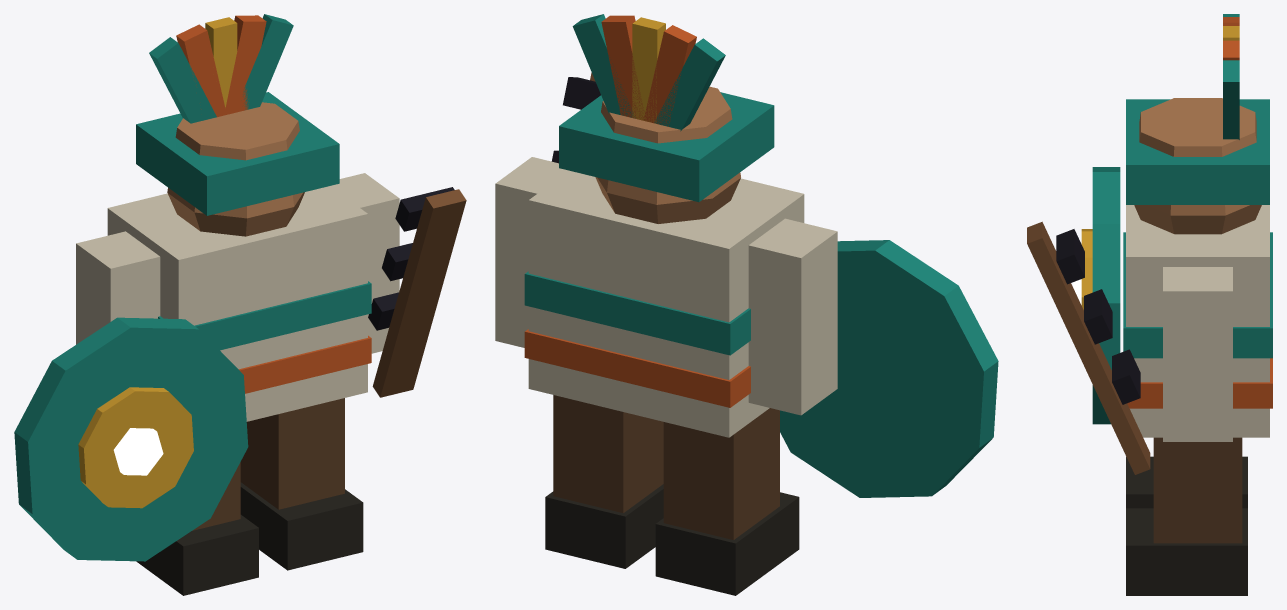
Rendered from unit_soldier.glb.
3 views of the same model, side by side, from view 1: azimuth 30°, elevation 25°; view 2: azimuth 150°, elevation 25°; view 3: azimuth 270°, elevation 25° (orthographic). The views are drawn at different scales.
Visible parts, largest first — view 1: body, arm_l, leg_r, arm_r, leg_l, glow; view 2: body, arm_l, leg_l, leg_r, arm_r; view 3: body, arm_r, leg_r, arm_l, leg_l.
Part boxes in pixels (x1,y1,x2,y2): body: (107,14,371,421); arm_l: (14,231,248,561); leg_r: (240,398,363,570); arm_r: (330,173,466,397); leg_l: (136,462,258,595); glow: (113,428,163,475); body: (524,14,804,437); arm_l: (748,218,998,497); leg_l: (655,408,799,595); leg_r: (545,395,663,568); arm_r: (495,72,600,347); body: (1123,14,1272,437); arm_r: (1027,221,1232,474); leg_r: (1126,437,1247,595); arm_l: (1081,167,1120,424); leg_l: (1126,456,1247,508).
Size of the model in its own units: 0.8775 by 1.04 by 0.4435.
